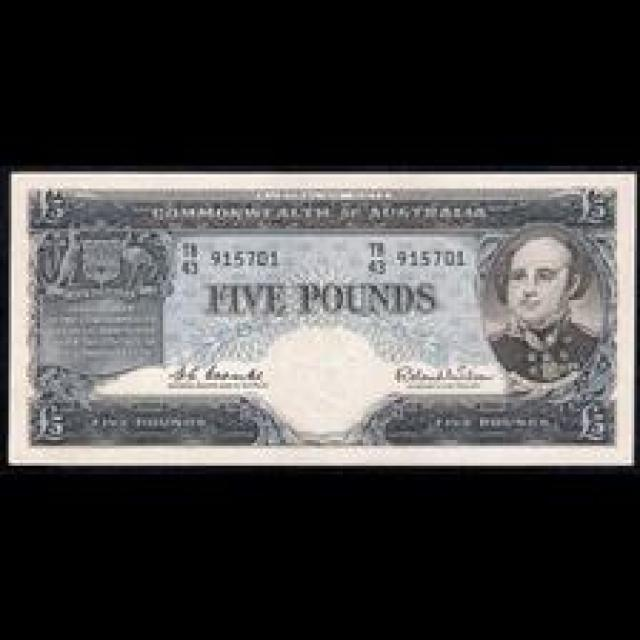banknote: (3, 166, 637, 466)
